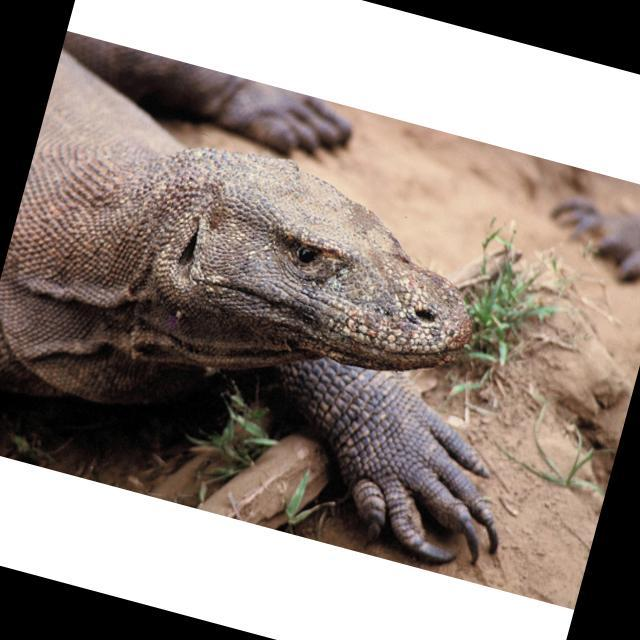KomodoDragon: (0, 95, 579, 581)
